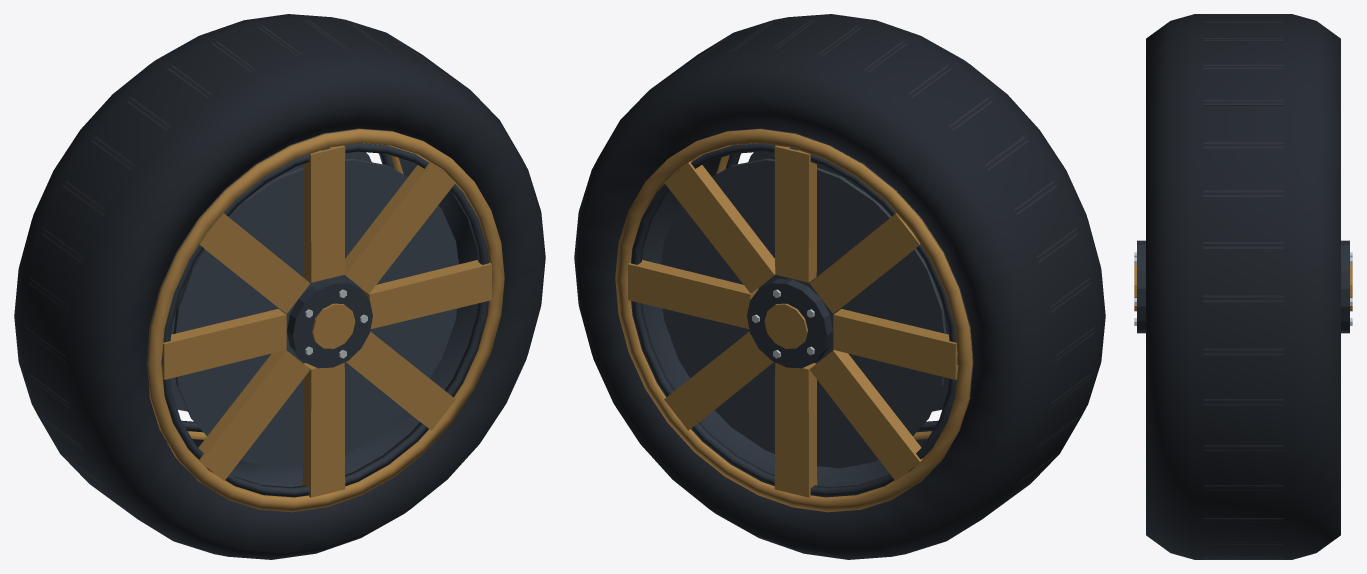
The model's file is retro.glb.
3 renders of one model, left to right at view 1: azimuth 30°, elevation 25°; view 2: azimuth 150°, elevation 25°; view 3: azimuth 270°, elevation 25°, orthographic.
Visible parts, largest first — view 1: wheel; view 2: wheel; view 3: wheel.
Boxes of the visible parts, x1,y1,x2,y2 form: wheel: (14, 14, 545, 559); wheel: (574, 14, 1105, 559); wheel: (1134, 14, 1352, 559).
Bounding box in the file's own units: 2 × 2 × 0.8.
